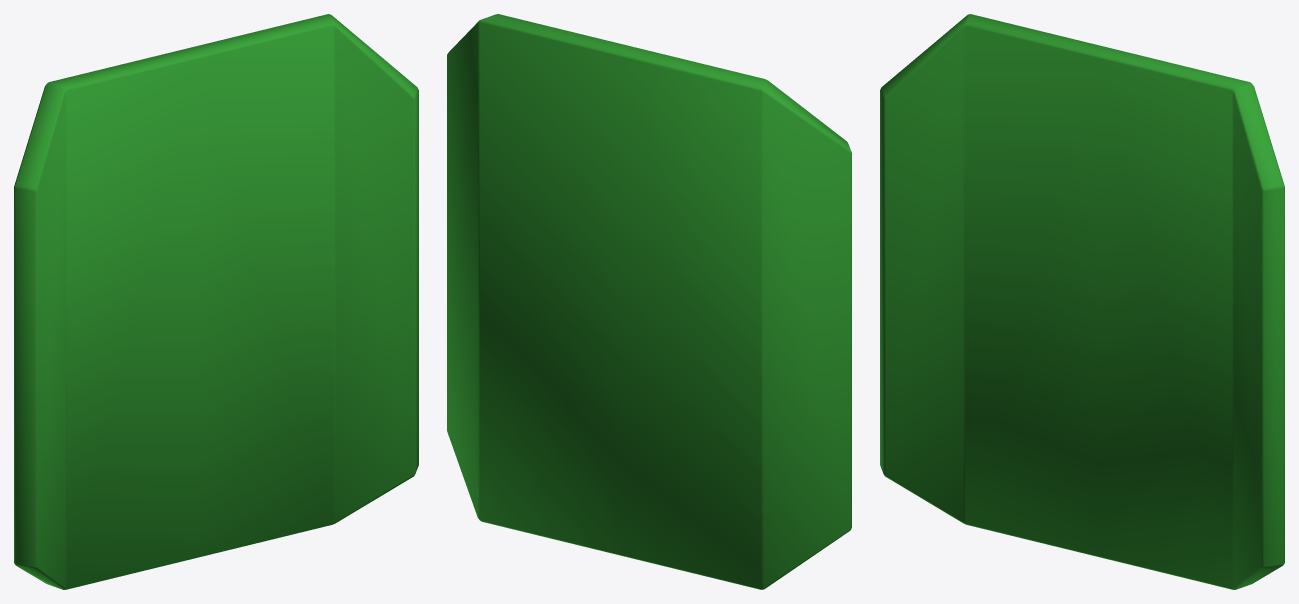
Rendered from Flap2.glb.
3 views of the same model, side by side, from view 1: azimuth 30°, elevation 25°; view 2: azimuth 150°, elevation 25°; view 3: azimuth 330°, elevation 25° (orthographic).
Parts seen in each view (by area): view 1: Track Plate.002; view 2: Track Plate.002; view 3: Track Plate.002.
Boxes of the visible parts, bbox=[...] form: Track Plate.002: bbox=[14, 14, 418, 589]; Track Plate.002: bbox=[447, 14, 851, 589]; Track Plate.002: bbox=[880, 14, 1284, 589].
Bounding box in the file's own units: 0.7432 × 0.8832 × 0.1206.
